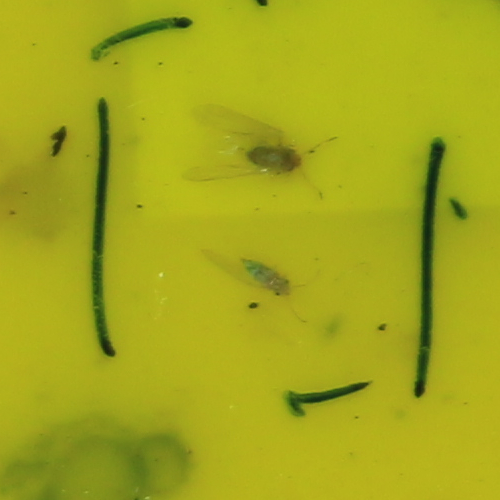Glycaspis: (242, 252, 293, 300), (246, 143, 306, 175)
